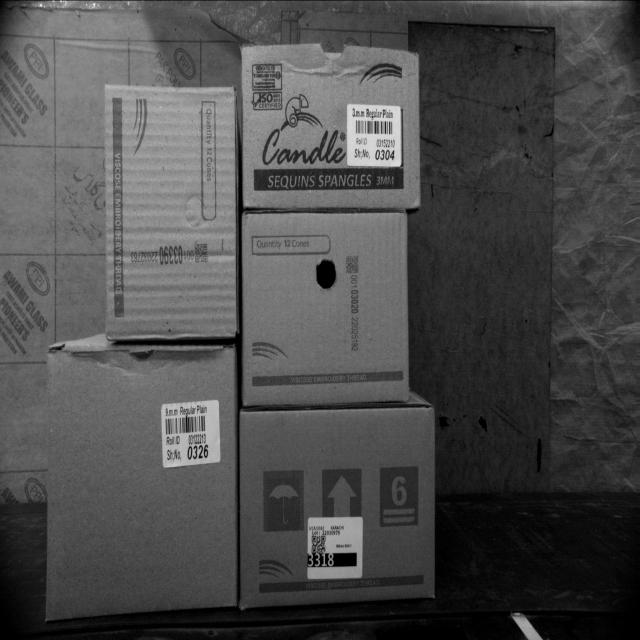cardboxes: (49, 346, 239, 617), (241, 404, 437, 609), (105, 89, 236, 338), (242, 215, 408, 403), (245, 48, 420, 207)
